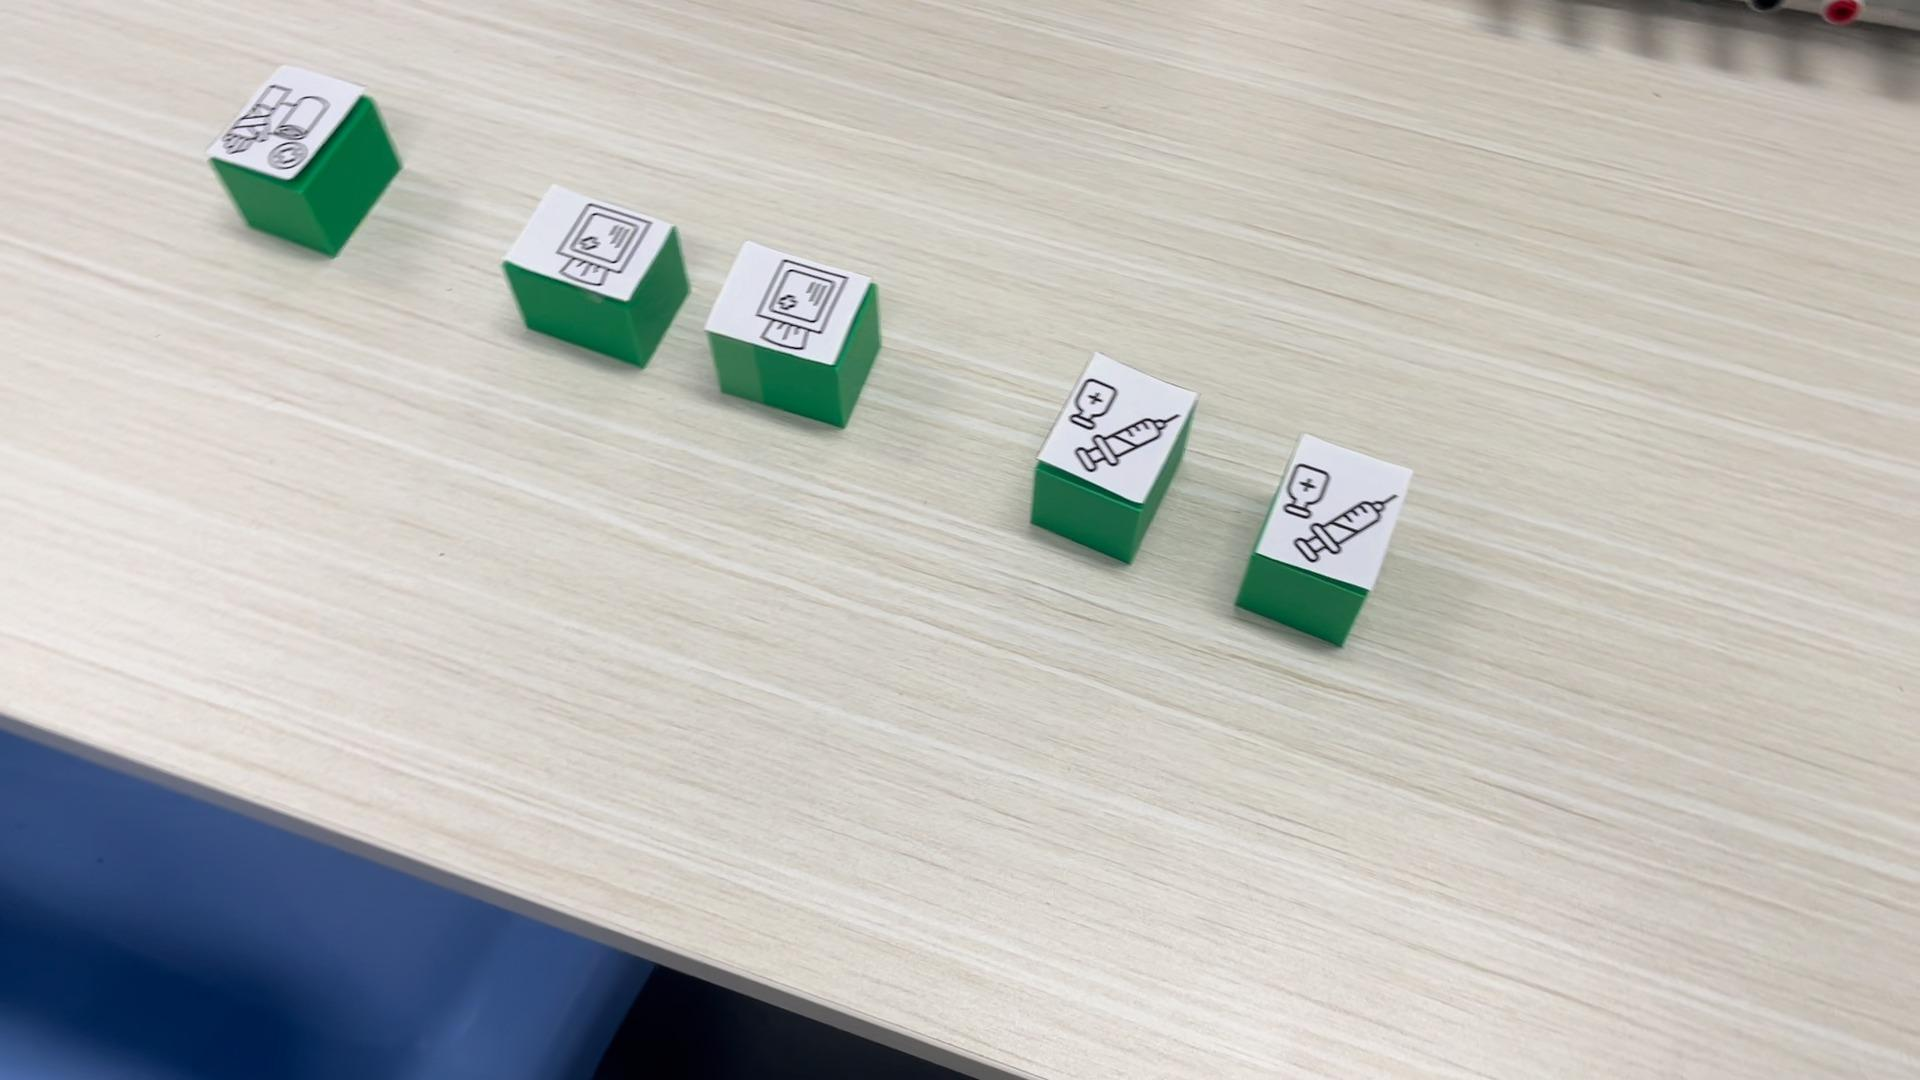Bandages: (204, 63, 402, 257)
Gauze: (502, 183, 688, 369), (703, 237, 881, 426)
antiseptic cream: (1234, 430, 1414, 646), (1029, 352, 1200, 564)
